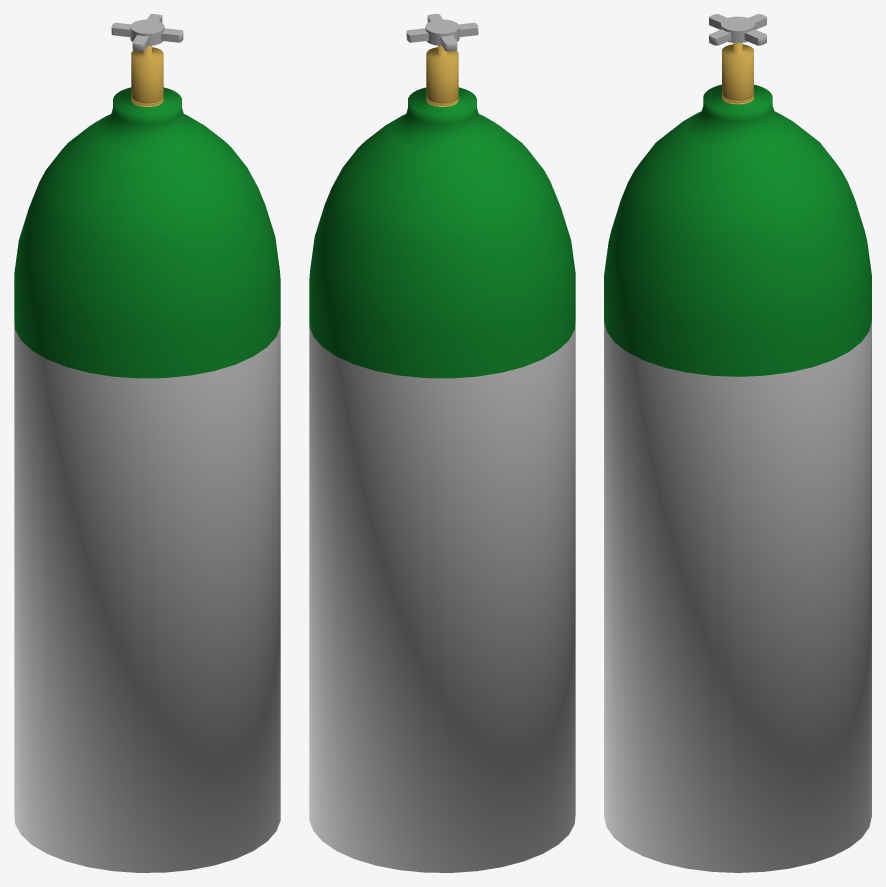
The model's file is oxygen_tank.fbx.
The picture shows the model from 3 angles, left to right: view 1: azimuth 30°, elevation 25°; view 2: azimuth 150°, elevation 25°; view 3: azimuth 270°, elevation 25°; orthographic projection.
Visible parts, largest first — view 1: 실린더; view 2: 실린더; view 3: 실린더.
Boxes of the visible parts, x1,y1,x2,y2 form: 실린더: (14,14,280,872); 실린더: (309,14,575,872); 실린더: (604,14,871,872).
Bounding box in the file's own units: 41.33 × 135 × 41.33.
